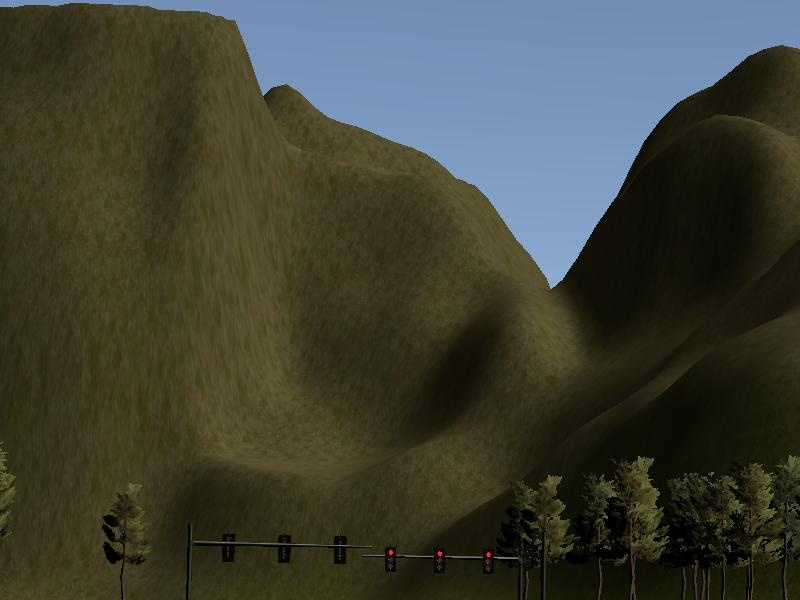red: (384, 548, 396, 573), (483, 549, 495, 573), (435, 546, 445, 571)
